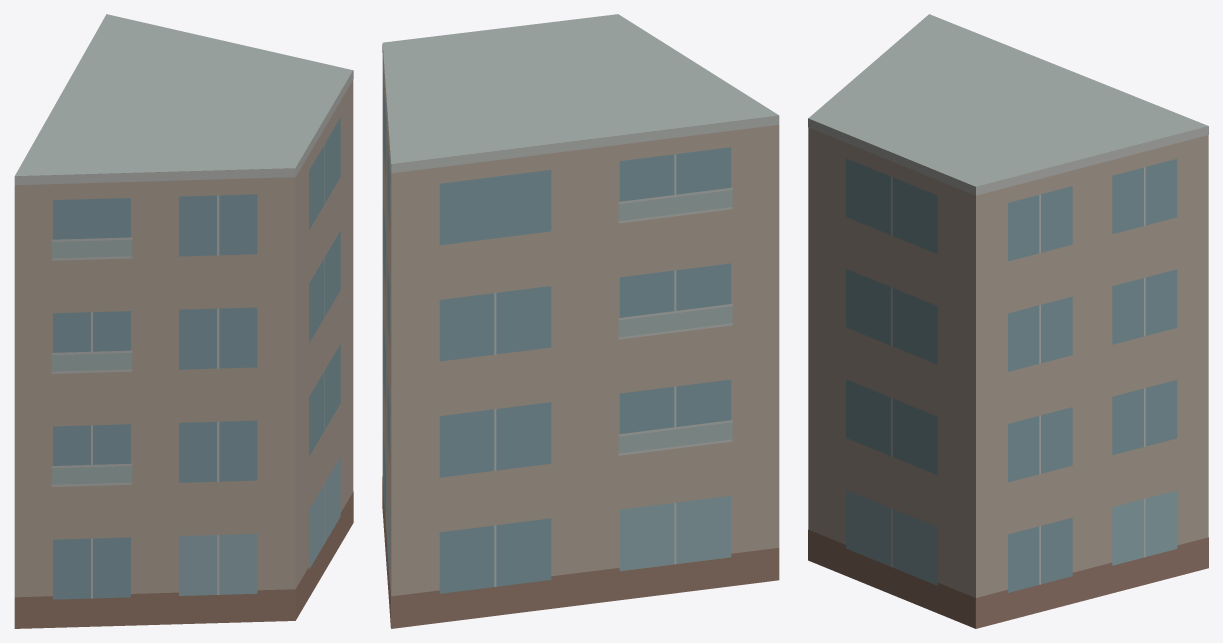
The model's file is survey-upis-32496719.glb.
3 views of the same model, side by side, from view 1: azimuth 30°, elevation 25°; view 2: azimuth 150°, elevation 25°; view 3: azimuth 270°, elevation 25° (orthographic). The views are drawn at different scales.
Visible parts, largest first — view 1: survey-upis-32496719.tmp; view 2: survey-upis-32496719.tmp; view 3: survey-upis-32496719.tmp.
Part boxes in pixels (x1,y1,x2,y2): survey-upis-32496719.tmp: (14, 14, 353, 628); survey-upis-32496719.tmp: (382, 14, 779, 628); survey-upis-32496719.tmp: (808, 14, 1208, 628).
Bounding box in the file's own units: 10.24 × 12.2 × 10.03.
